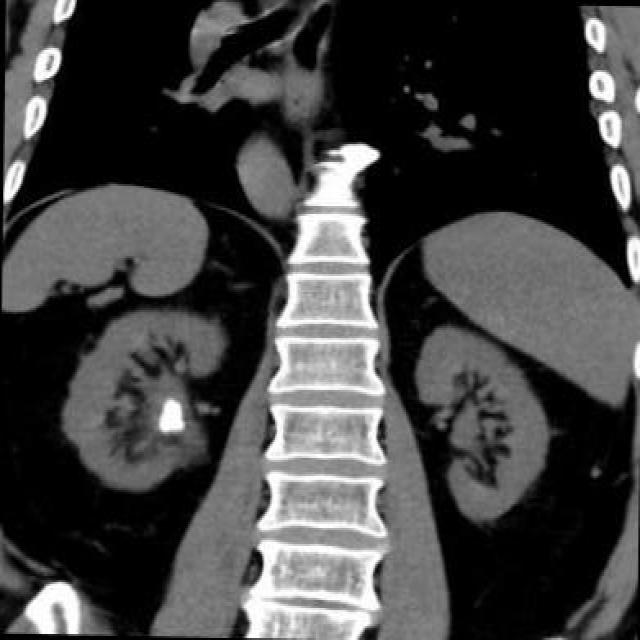Tas_Var: (155, 395, 185, 435)
